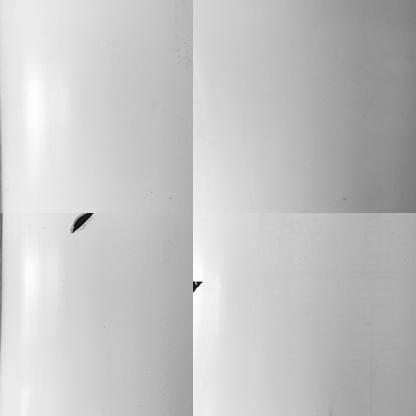kongdong: (69, 211, 95, 233), (190, 279, 203, 291)
